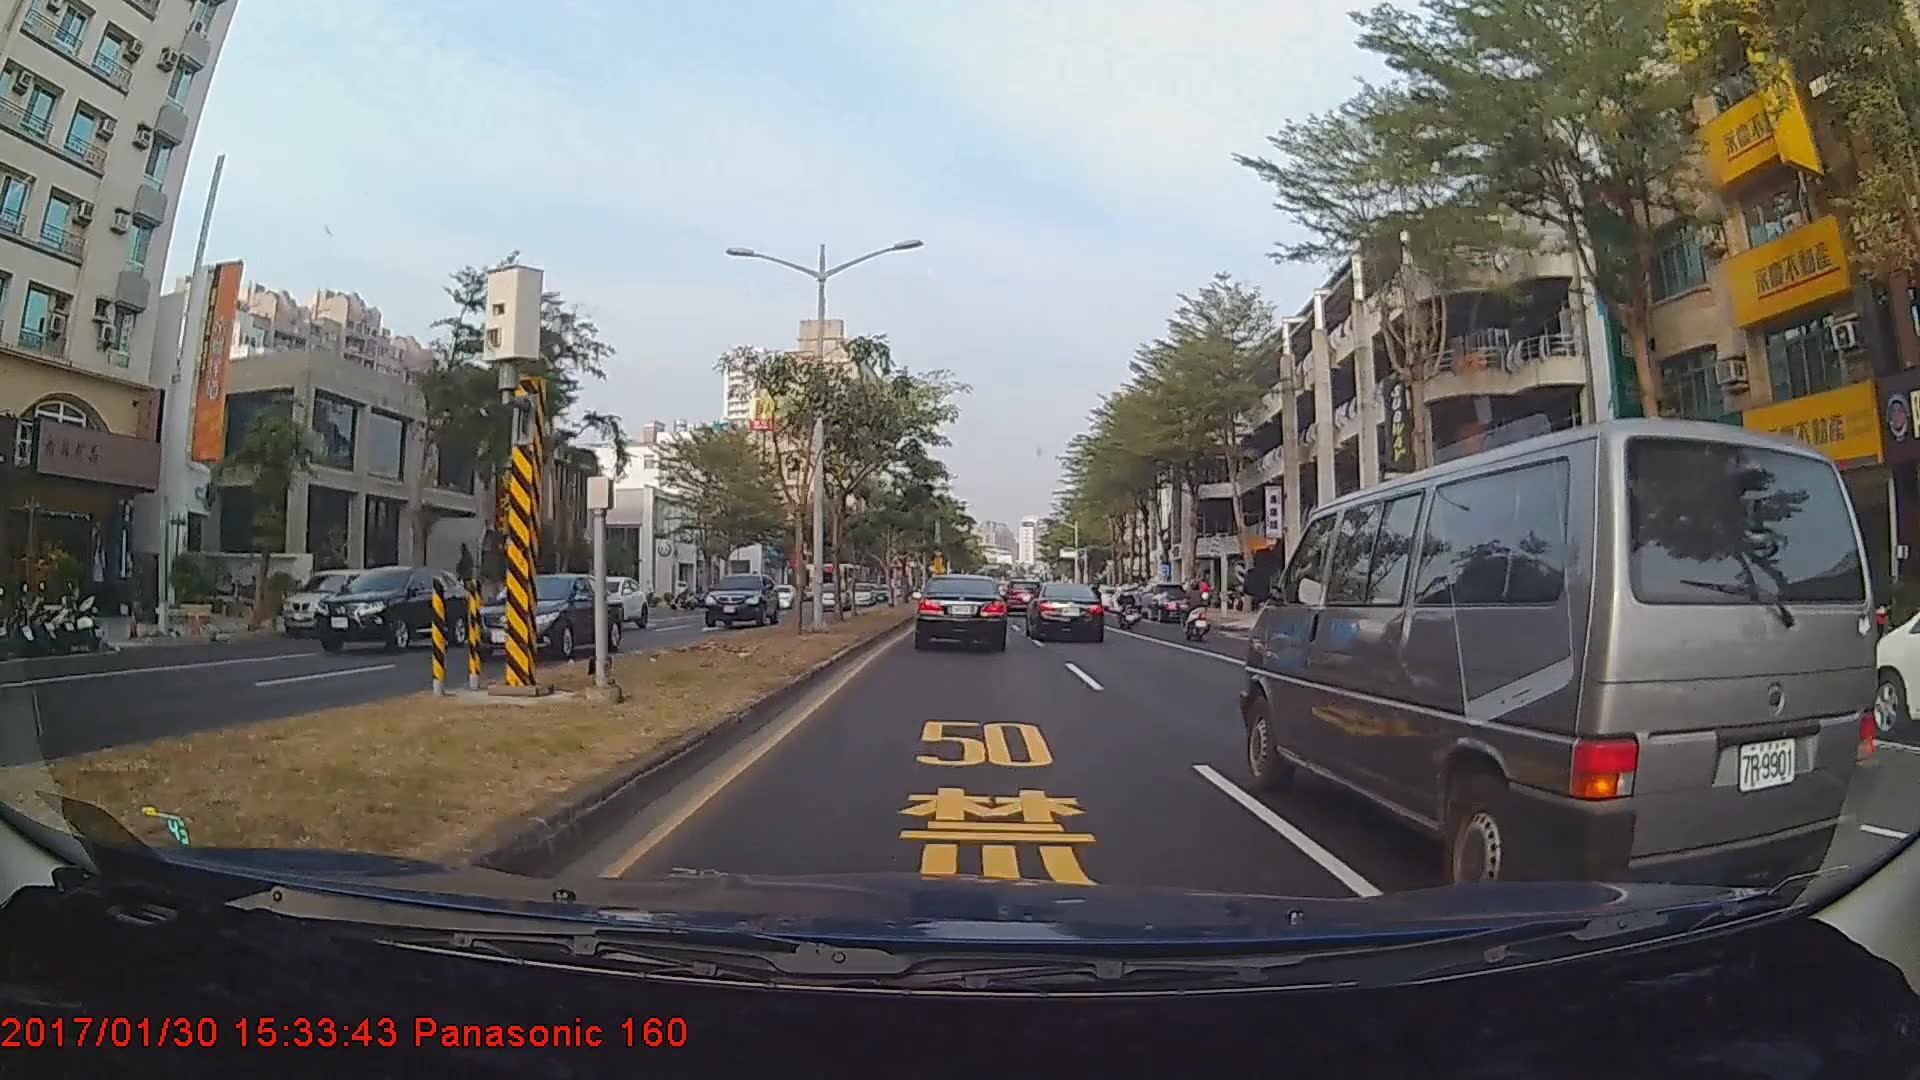rider: (1172, 580, 1217, 644)
vehicle: (1233, 402, 1872, 907), (307, 564, 470, 655), (467, 572, 624, 662), (280, 568, 394, 638), (915, 573, 1006, 650), (1027, 582, 1104, 643), (566, 575, 649, 630), (703, 574, 779, 629), (1139, 592, 1199, 625), (1003, 577, 1043, 614)
